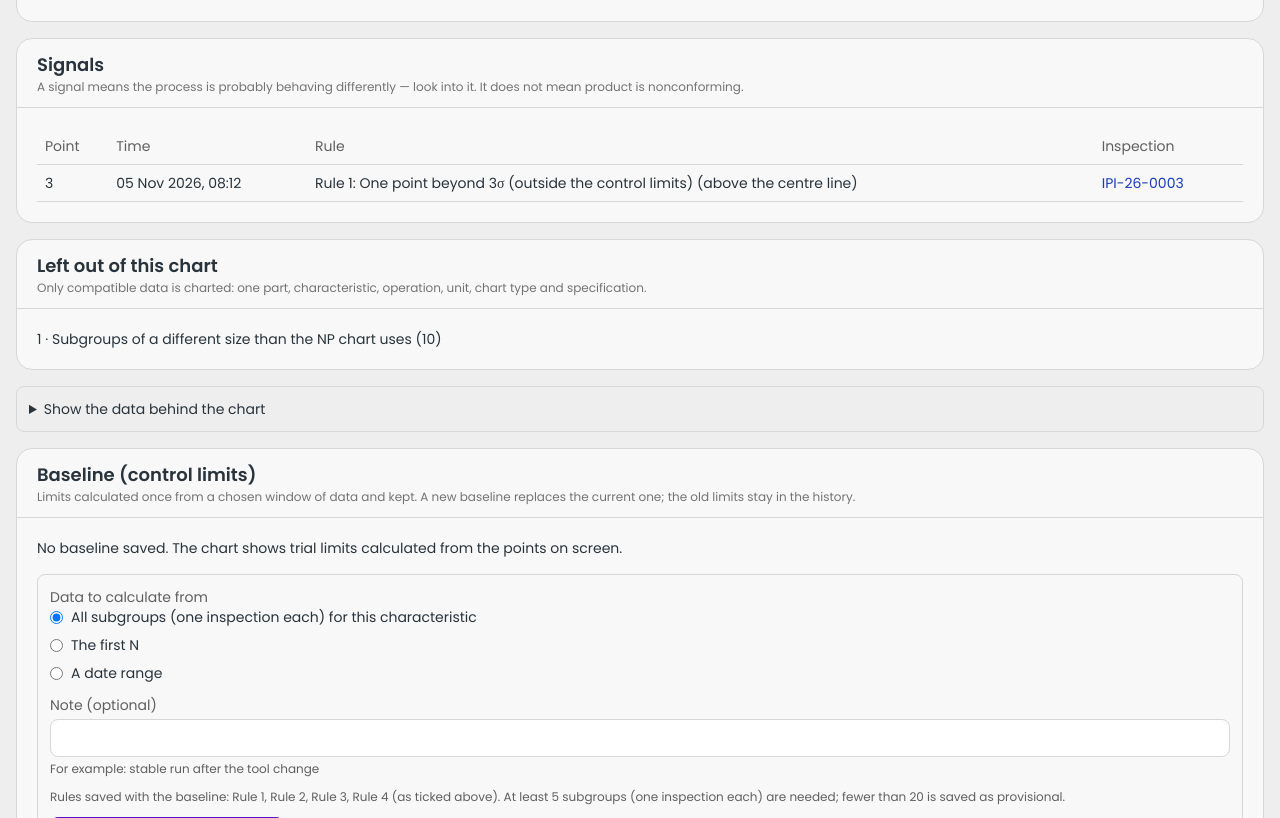
Test: NP, C and U charts › a defects characteristic shows a C chart with defect counts, per-subgroup limits and no spec or range chart
(page scrolled)
Expected: the text "Rule 1: One point beyond 3σ" is shown, [315,173,693,193]
Click the heading "Show the data behind the chart" at (155, 409), box [44,399,265,419]
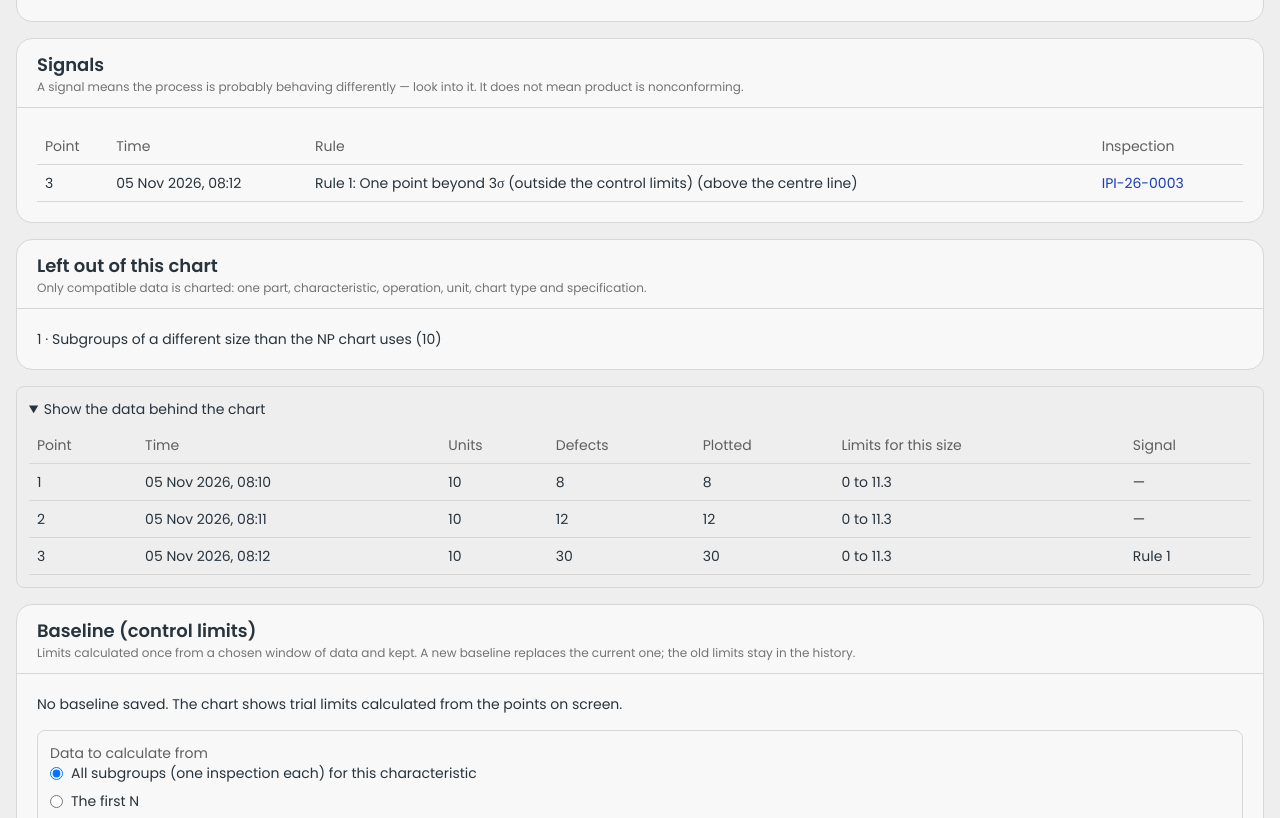
Now the column heading "Units" is shown, box [440,427,548,464]
Now the column heading "Defects" is shown, box [548,427,695,464]
